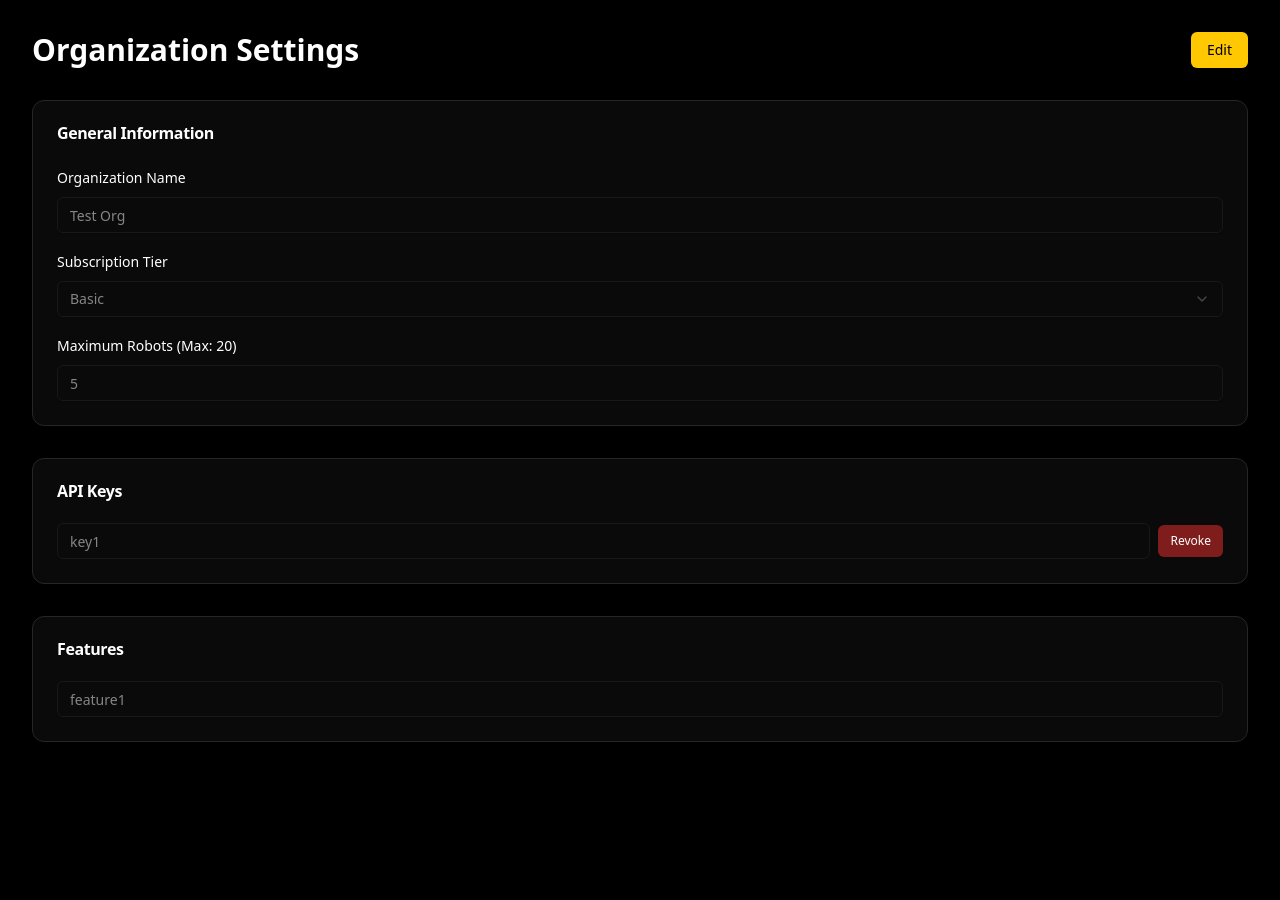
OrganizationPage › enables editing when Edit button is clicked
This screenshot has width=1280, height=900.
Expected: the field showing "Test Org" below "Organization Name" is shown, x1=57 y1=197 x2=1223 y2=233
Click edit button
Click the button "Edit": (1219, 50) x1=1191 y1=32 x2=1248 y2=68
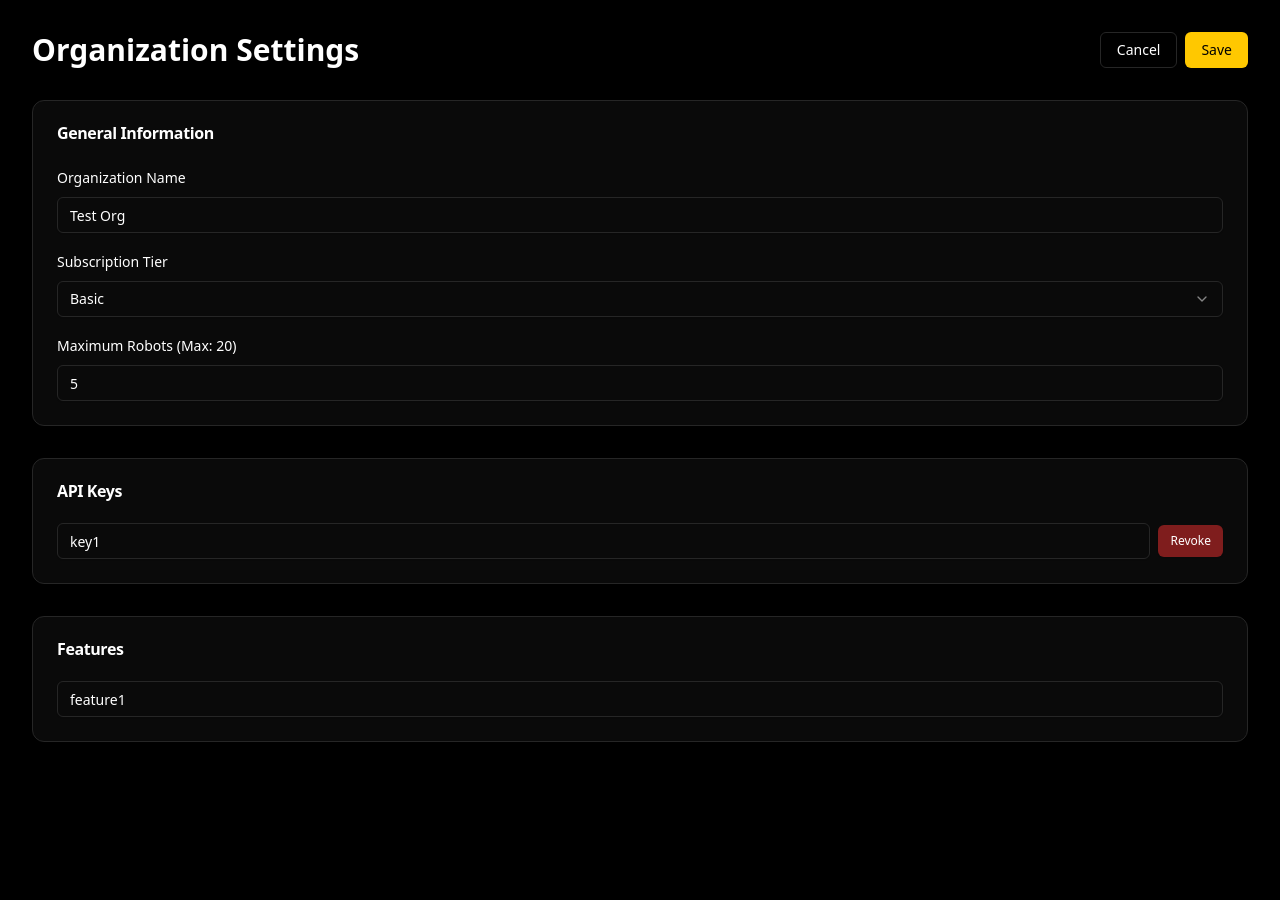
Expected: the field showing "Test Org" below "Organization Name" is enabled, x1=57 y1=197 x2=1223 y2=233
